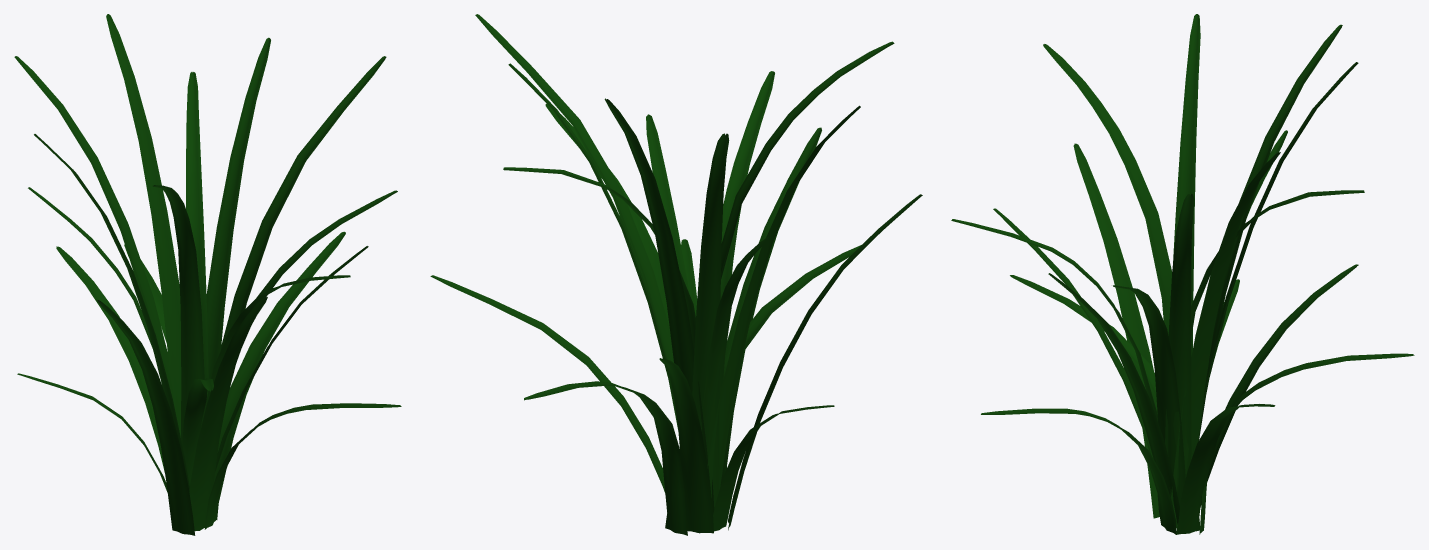
File: marine_plant.obj
The picture shows the model from 3 angles, left to right: view 1: azimuth 30°, elevation 25°; view 2: azimuth 150°, elevation 25°; view 3: azimuth 270°, elevation 25°; orthographic projection. The views are drawn at different scales.
Parts seen in each view (by area): view 1: plant; view 2: plant; view 3: plant.
Part boxes in pixels (x1,y1,x2,y2): plant: [14, 14, 401, 535]; plant: [430, 14, 922, 535]; plant: [951, 14, 1414, 534].
Size of the model in its own units: 11.95 by 14.6 by 13.27.
